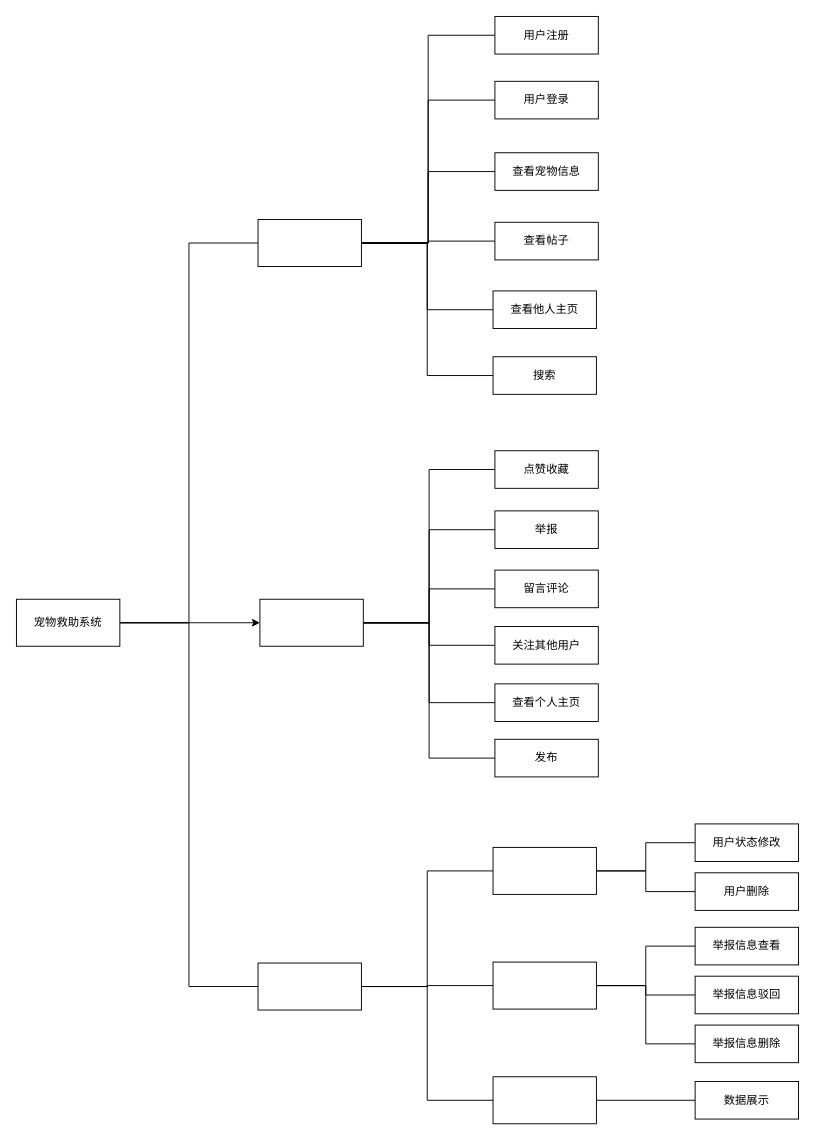
This 815x1140 diagram has some shape labels left out. Each missing label, with the centre of its shape:
"举报处理" belongs at point 544,985.
"数据查看" belongs at point 544,1100.
"游客模块" belongs at point 309,242.
"用户模块" belongs at point 311,622.
"用户管理" belongs at point 544,870.
"管理员模块" belongs at point 309,986.
